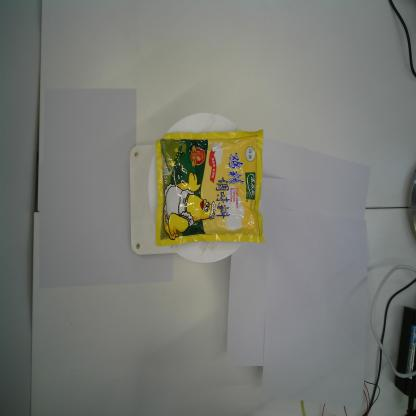Seasoner: (154, 126, 265, 249)
